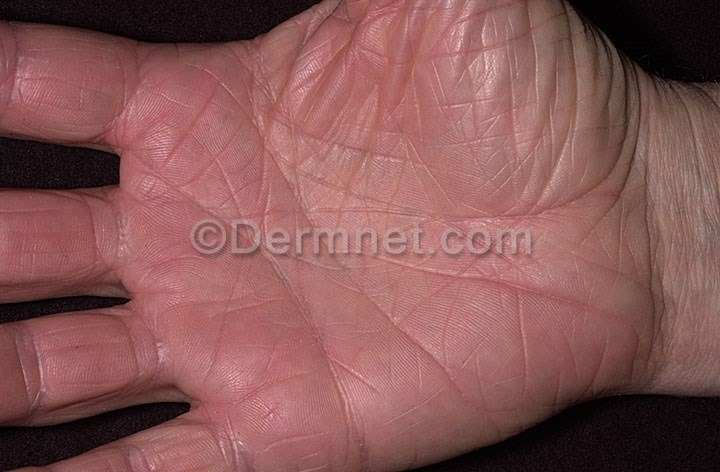Eczema: (1, 24, 365, 471), (372, 1, 579, 215)
